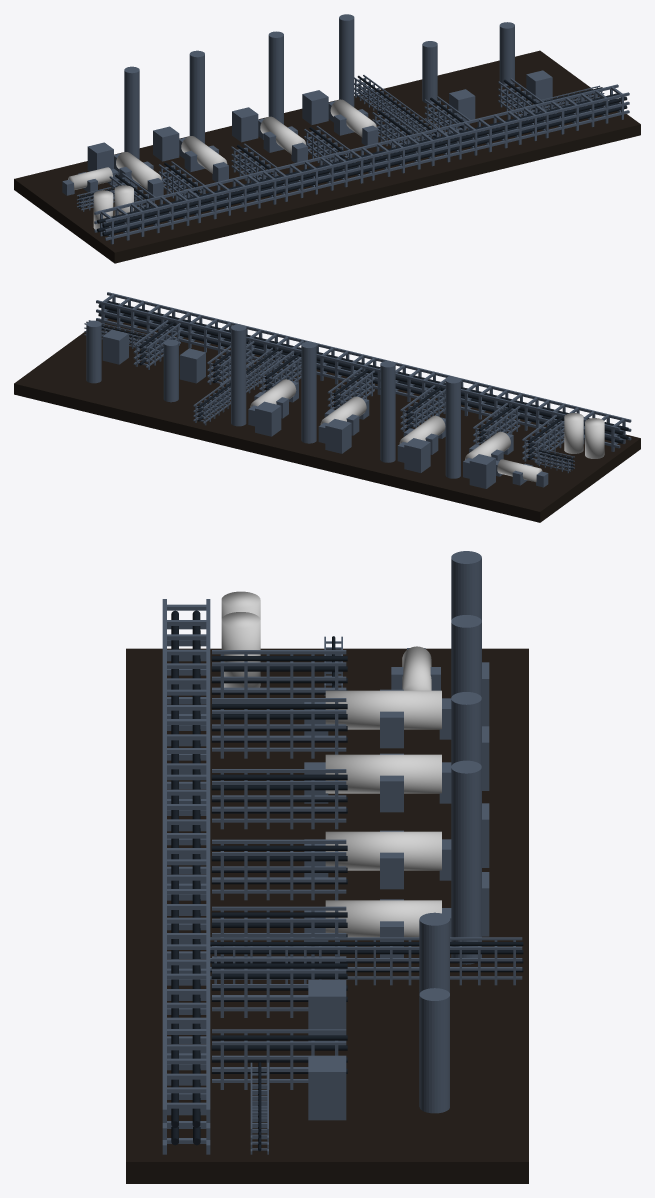
Rendered from Gas Turbine Generator & Boiler_1.fbx.
The picture shows the model from 3 angles, top to bottom: view 1: azimuth 30°, elevation 25°; view 2: azimuth 150°, elevation 25°; view 3: azimuth 270°, elevation 25°; orthographic projection. The views are drawn at different scales.
Visible parts, largest first — view 1: GasTurbineGenerator&Boiler_1; view 2: GasTurbineGenerator&Boiler_1; view 3: GasTurbineGenerator&Boiler_1.
Part boxes in pixels (<box>): GasTurbineGenerator&Boiler_1: <box>14,14,640,263</box>; GasTurbineGenerator&Boiler_1: <box>14,292,640,522</box>; GasTurbineGenerator&Boiler_1: <box>126,551,528,1183</box>.
Bounding box in the file's own units: 99.97 × 19.32 × 33.17.
